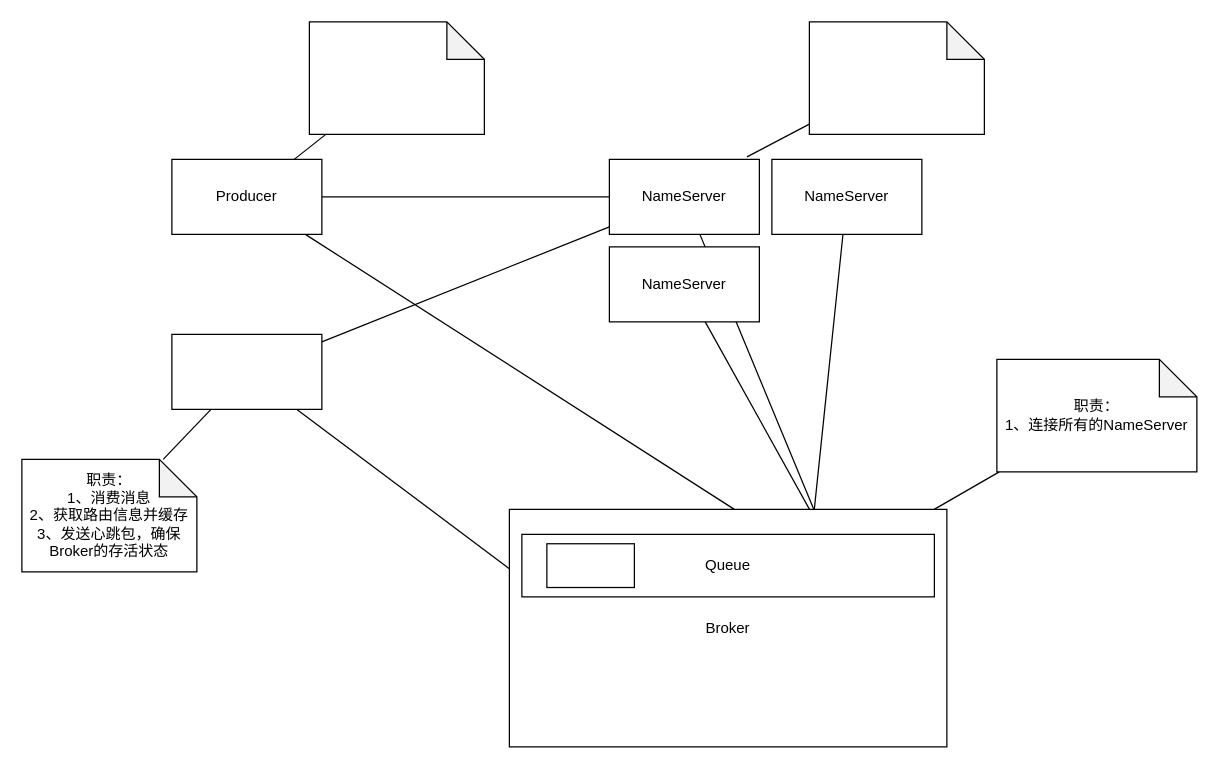
Some shapes in this 1219 by 769 pixel diagram are drawn without their labels. Each missing label, with the box of its shape:
Consumer: (171, 333, 322, 409)
Topic: (546, 542, 634, 588)
职责： 1、发送消息 2、获取路由信息并缓存: (308, 21, 484, 134)
职责： 1、监听端口，等待连接 2、存储Topic和Broker的映射关系: (808, 21, 984, 134)
